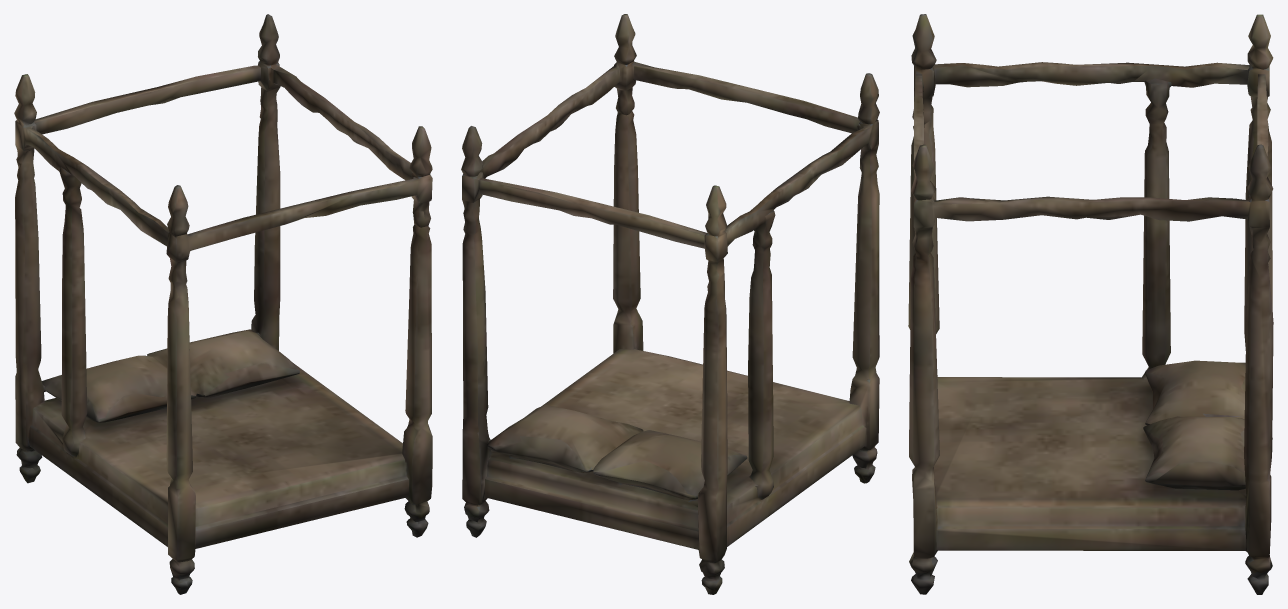
Rendered from old-wood-four-poster-bed-v001.glb.
The picture shows the model from 3 angles, left to right: view 1: azimuth 30°, elevation 25°; view 2: azimuth 150°, elevation 25°; view 3: azimuth 270°, elevation 25°; orthographic projection. The views are drawn at different scales.
Parts seen in each view (by area): view 1: old-wood-four-poster-bed; view 2: old-wood-four-poster-bed; view 3: old-wood-four-poster-bed.
Part boxes in pixels (left/top/right/bottom): old-wood-four-poster-bed: left=14, top=14, right=432, bottom=594; old-wood-four-poster-bed: left=461, top=14, right=879, bottom=594; old-wood-four-poster-bed: left=908, top=14, right=1273, bottom=594.
Bounding box in the file's own units: 1.39 × 2.06 × 1.51.
1 material, 1 textured.
